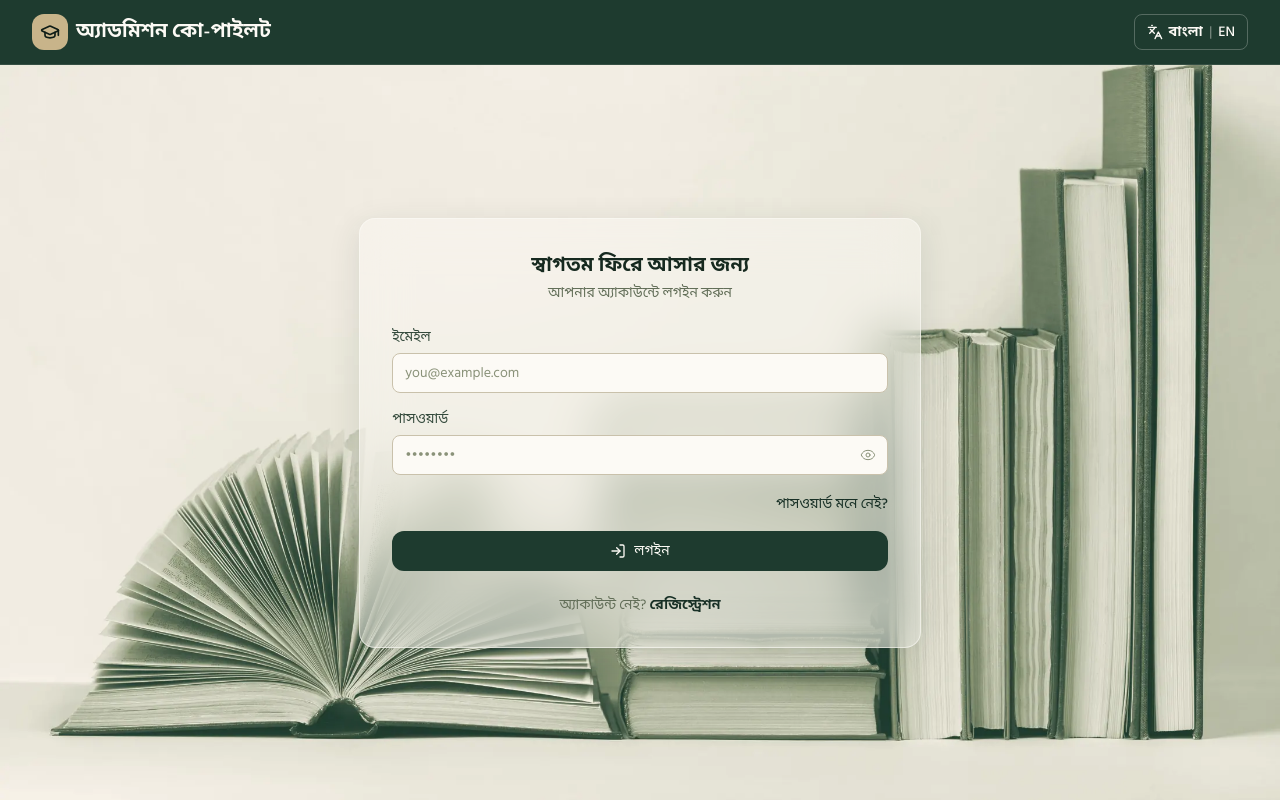
Test: LoginPage › shows required-field errors when submitted empty
Click the button "লগইন" at (640,550), box [392,530,888,570]
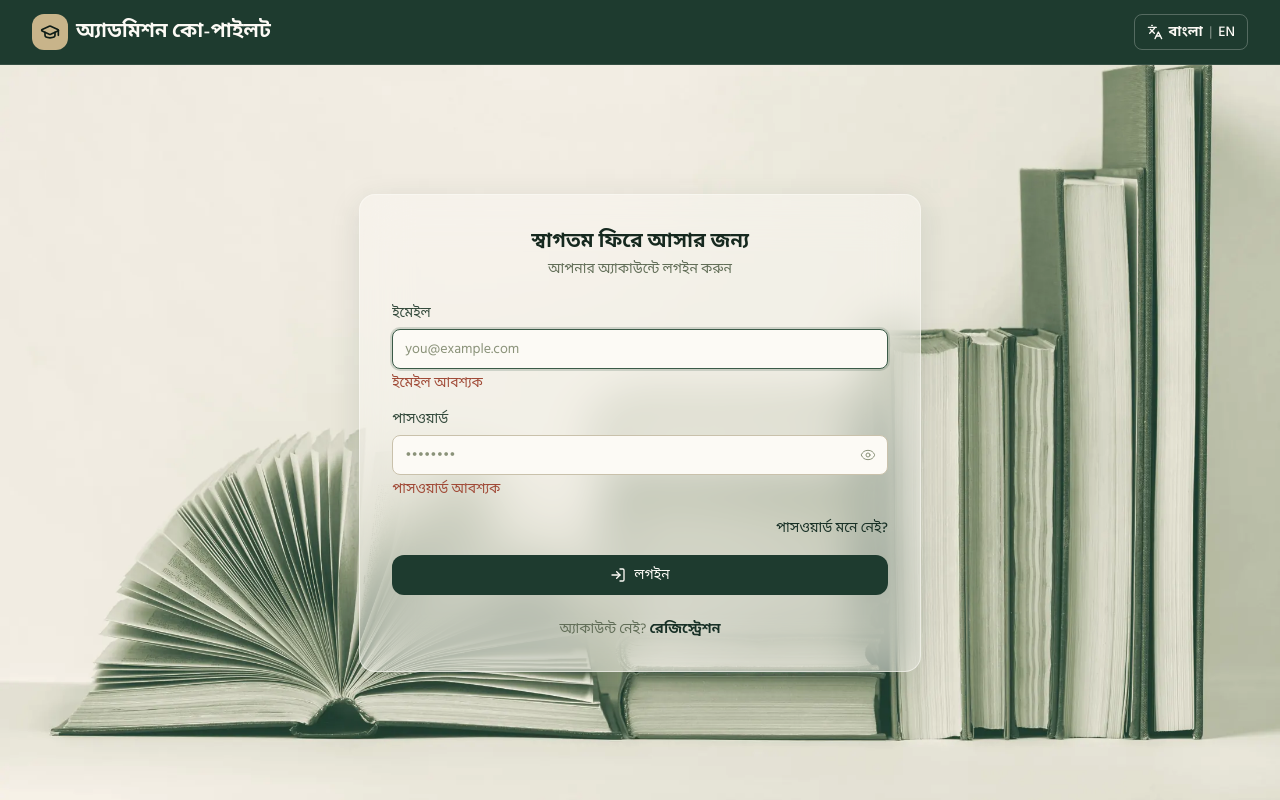
Expected: the text "ইমেইল আবশ্যক" is shown, [392,370,483,394]
Expected: the text "পাসওয়ার্ড আবশ্যক" is shown, [392,476,500,500]
